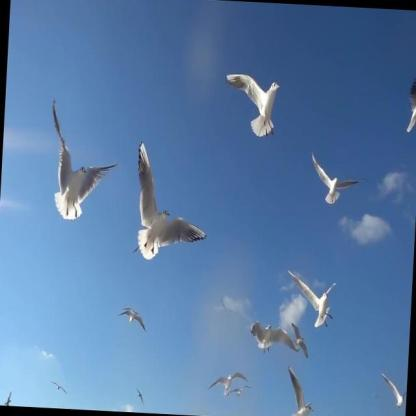bird: (129, 135, 214, 276), (43, 94, 123, 230), (220, 65, 284, 141), (305, 147, 370, 212), (283, 265, 340, 330), (249, 317, 303, 356), (284, 364, 317, 416), (206, 367, 250, 399), (114, 304, 150, 336), (379, 371, 408, 410), (290, 317, 312, 362), (48, 377, 71, 398), (226, 384, 254, 401), (134, 383, 147, 407), (3, 388, 15, 406)
